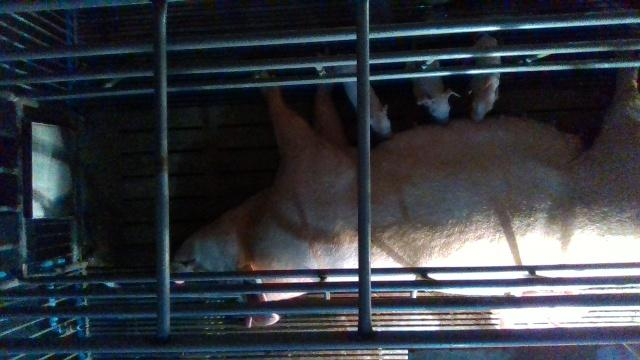piglet: (338, 55, 392, 140), (405, 61, 460, 126), (468, 32, 502, 123)
sow-sleep-lactate: (174, 71, 640, 326)
